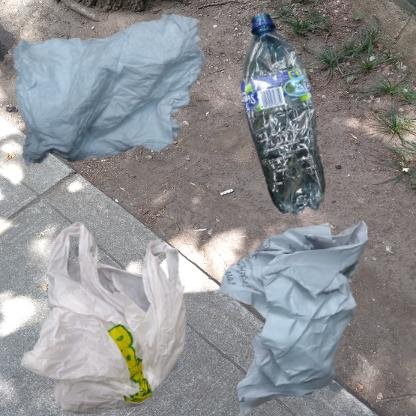bolsa: (10, 213, 222, 416)
botella: (213, 10, 374, 243)
papel: (213, 213, 386, 416), (10, 10, 216, 169)
